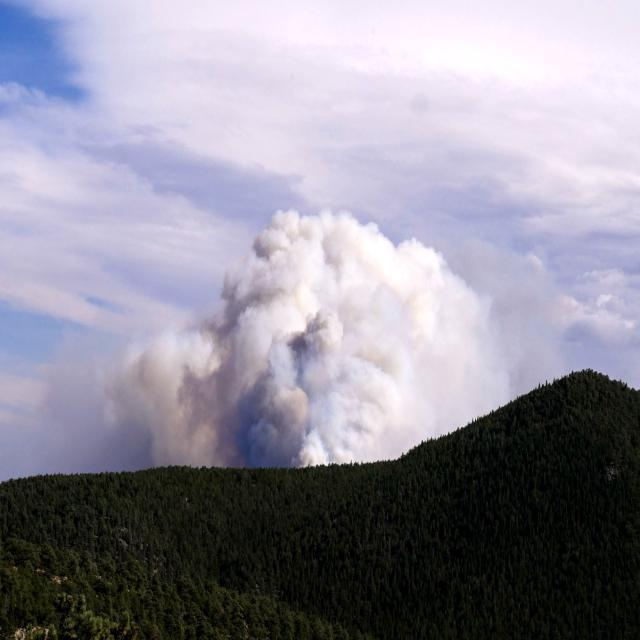Smoke: (98, 175, 535, 469)
